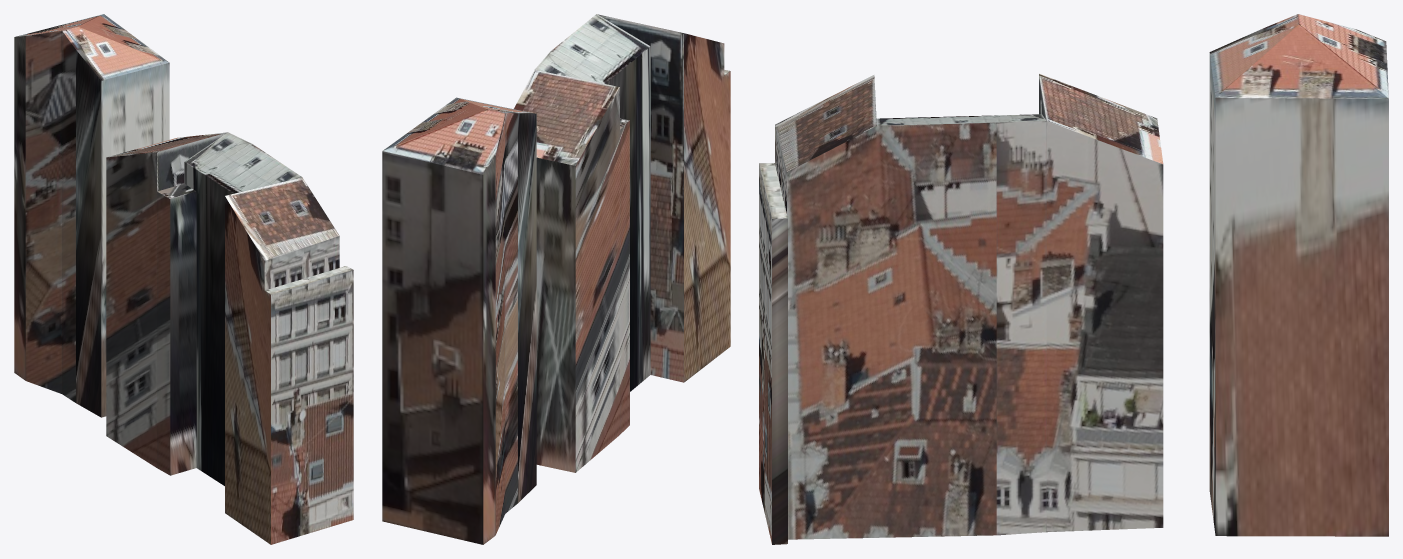
3 views of the same model, side by side, from view 1: azimuth 30°, elevation 25°; view 2: azimuth 150°, elevation 25°; view 3: azimuth 270°, elevation 25° (orthographic). The views are drawn at different scales.
Visible parts, largest first — view 1: Z_UP; view 2: Z_UP; view 3: Z_UP.
Part boxes in pixels (left/top/right/bottom): Z_UP: left=14, top=14, right=353, bottom=544; Z_UP: left=382, top=14, right=730, bottom=544; Z_UP: left=759, top=14, right=1388, bottom=544.
Bounding box in the file's own units: 8.85 × 29.61 × 35.66.
Materials: 2 (1 with a texture image).
